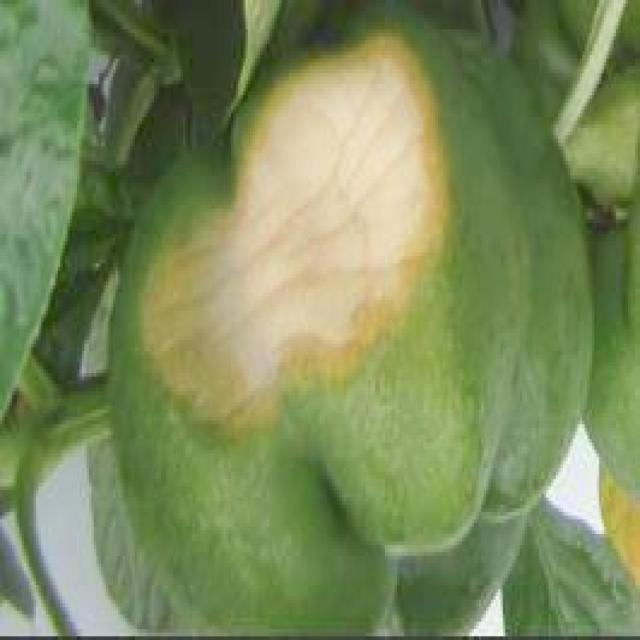Sunscald Fruit: (87, 15, 315, 295)
